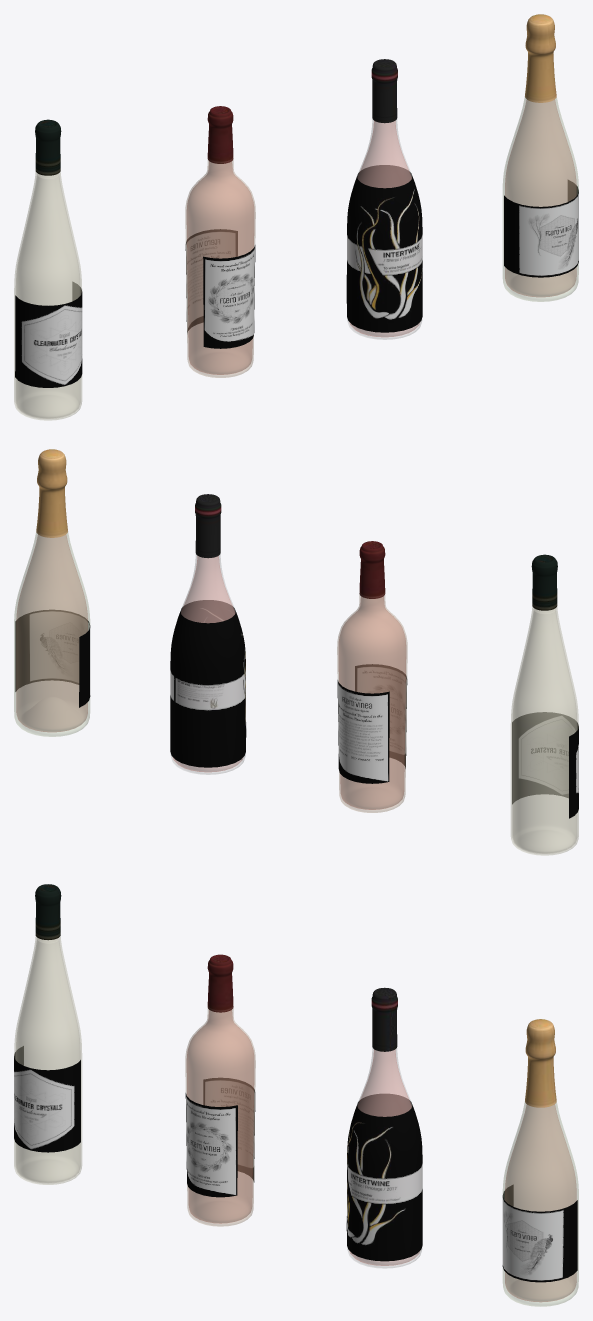
The picture shows the model from 3 angles, top to bottom: view 1: azimuth 30°, elevation 25°; view 2: azimuth 150°, elevation 25°; view 3: azimuth 330°, elevation 25°; orthographic projection.
Visible parts, largest first — view 1: wine_bottles_01_champagne, wine_bottles_01_alsace, wine_bottles_01_burgundy, wine_bottles_01_bordeaux; view 2: wine_bottles_01_champagne, wine_bottles_01_alsace, wine_bottles_01_burgundy, wine_bottles_01_bordeaux; view 3: wine_bottles_01_champagne, wine_bottles_01_alsace, wine_bottles_01_burgundy, wine_bottles_01_bordeaux.
Boxes of the visible parts, left/top/right/bottom form: wine_bottles_01_champagne: left=503, top=14, right=578, bottom=301; wine_bottles_01_alsace: left=14, top=119, right=82, bottom=420; wine_bottles_01_burgundy: left=346, top=59, right=422, bottom=339; wine_bottles_01_bordeaux: left=185, top=106, right=255, bottom=377; wine_bottles_01_champagne: left=14, top=449, right=90, bottom=736; wine_bottles_01_alsace: left=511, top=554, right=578, bottom=855; wine_bottles_01_burgundy: left=170, top=494, right=246, bottom=774; wine_bottles_01_bordeaux: left=337, top=541, right=407, bottom=812; wine_bottles_01_champagne: left=502, top=1019, right=578, bottom=1306; wine_bottles_01_alsace: left=14, top=884, right=81, bottom=1184; wine_bottles_01_burgundy: left=346, top=987, right=422, bottom=1268; wine_bottles_01_bordeaux: left=185, top=954, right=255, bottom=1226.
Bounding box in the file's own units: 0.6763 × 0.3314 × 0.0806.
12 materials, 9 textured.
